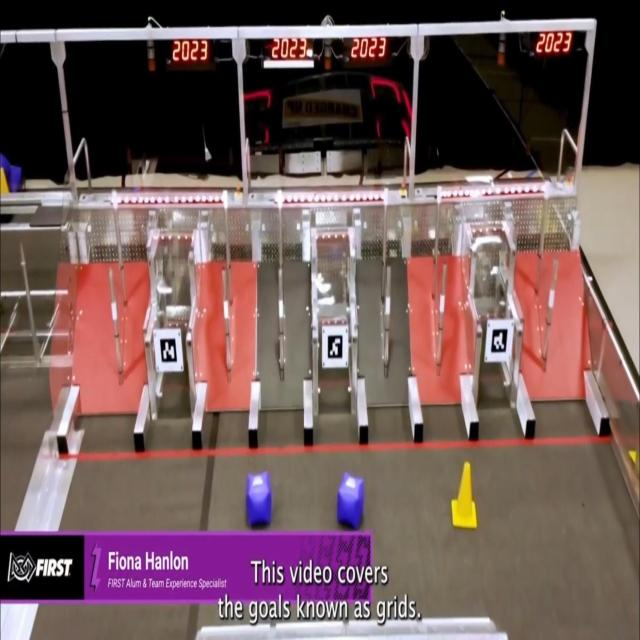frc_cone: (452, 462, 476, 528), (0, 164, 12, 199)
frc_cube: (337, 472, 364, 528), (245, 473, 271, 528), (0, 152, 12, 178), (11, 166, 21, 192)
